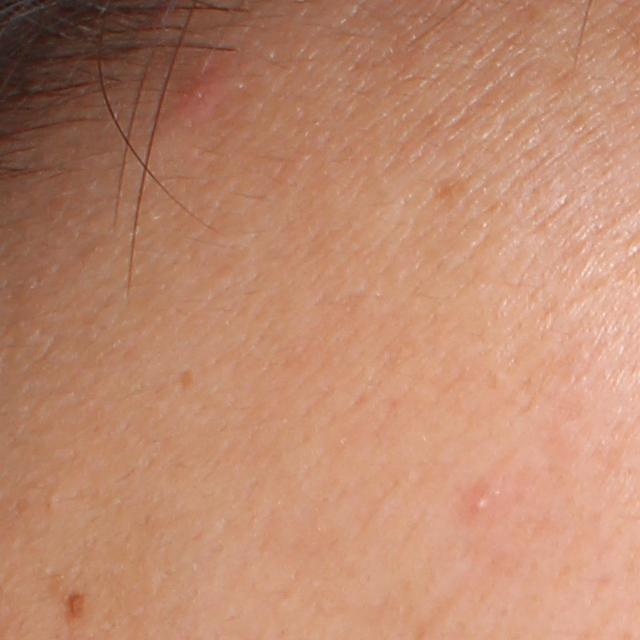nevus: (65, 591, 86, 622)
